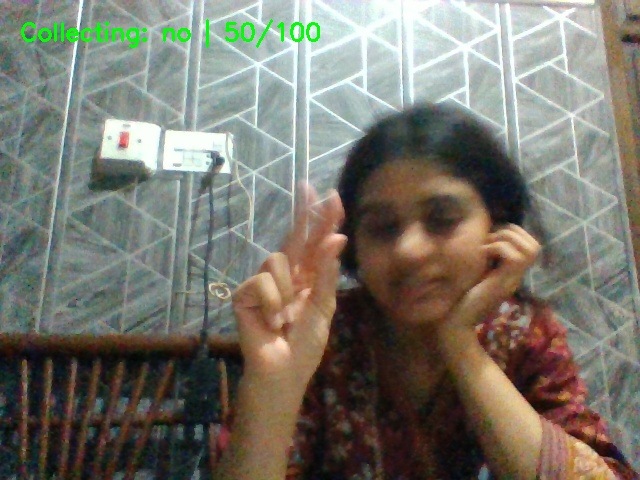no: (216, 178, 374, 403)
